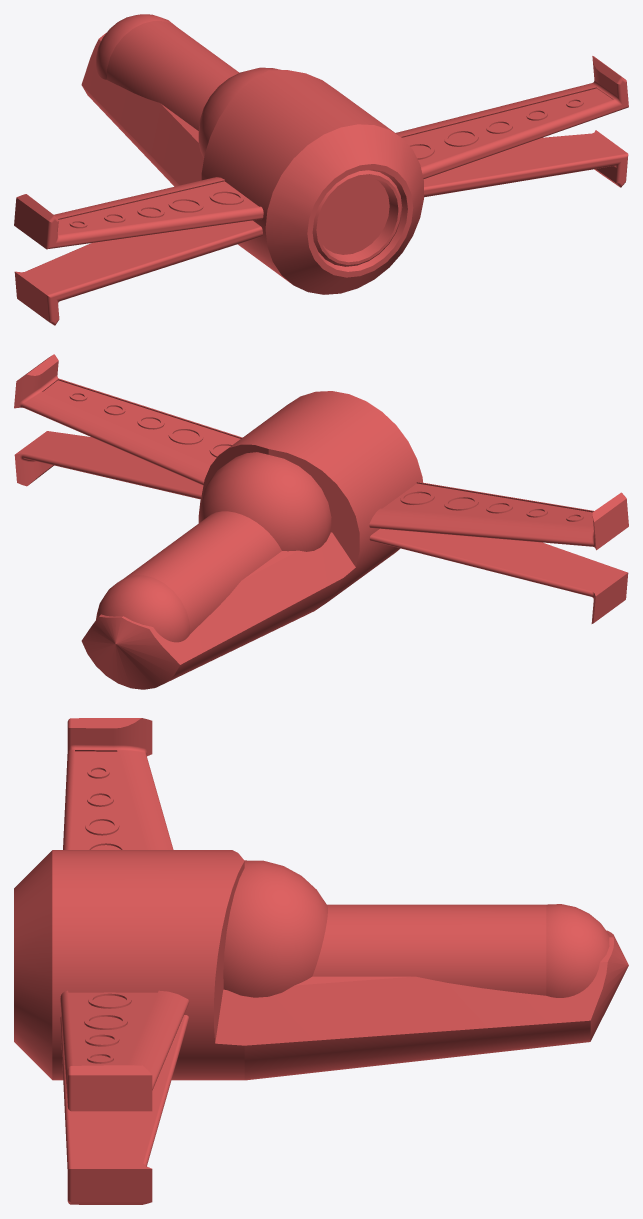
File: enemy_fighter.obj
3 views of the same model, one above another, from view 1: azimuth 30°, elevation 25°; view 2: azimuth 150°, elevation 25°; view 3: azimuth 270°, elevation 25° (orthographic). The views are drawn at different scales.
Parts seen in each view (by area): view 1: Body2, Body18, Body6, Body7, Body19; view 2: Body2, Body18, Body6, Body7, Body19; view 3: Body2, Body18, Body6, Body19.
Part boxes in pixels (x1=…): Body2: x1=81, y1=14, x2=423, y2=294; Body18: x1=396, y1=56, x2=628, y2=178; Body6: x1=14, y1=177, x2=263, y2=249; Body7: x1=14, y1=220, x2=262, y2=325; Body19: x1=423, y1=130, x2=628, y2=197; Body2: x1=81, y1=391, x2=422, y2=689; Body18: x1=14, y1=354, x2=242, y2=485; Body6: x1=369, y1=482, x2=628, y2=550; Body7: x1=369, y1=528, x2=628, y2=623; Body19: x1=14, y1=431, x2=203, y2=499; Body2: x1=14, y1=850, x2=628, y2=1080; Body18: x1=60, y1=990, x2=189, y2=1111; Body6: x1=63, y1=718, x2=173, y2=849; Body19: x1=60, y1=1015, x2=188, y2=1204.
Size of the model in its own units: 10.99 by 3 by 8.
